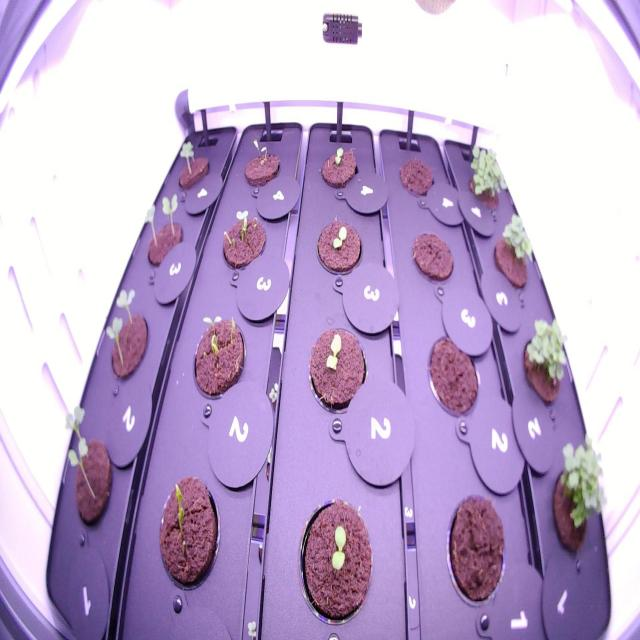germination: (292, 486, 380, 632), (542, 424, 612, 564), (152, 469, 225, 599), (184, 298, 251, 404), (302, 320, 373, 420), (99, 278, 158, 387), (514, 302, 573, 408), (142, 186, 192, 278), (488, 208, 540, 296), (214, 200, 272, 278), (312, 210, 367, 280), (464, 138, 512, 214), (170, 134, 215, 200), (313, 136, 362, 194), (239, 132, 284, 192)
pod: (438, 484, 515, 618), (422, 326, 483, 425), (407, 222, 457, 290), (393, 142, 438, 204)
